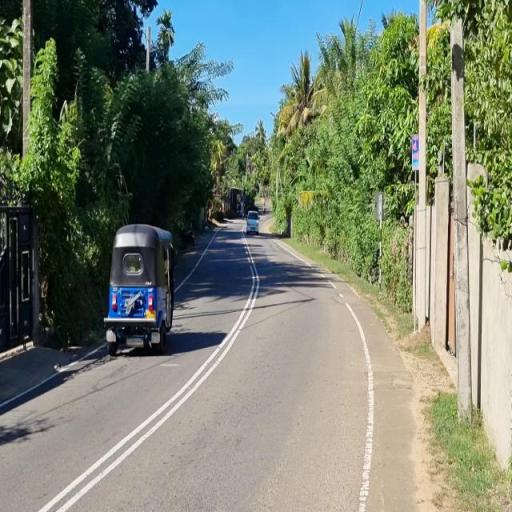double_white_line: (38, 224, 266, 512)
